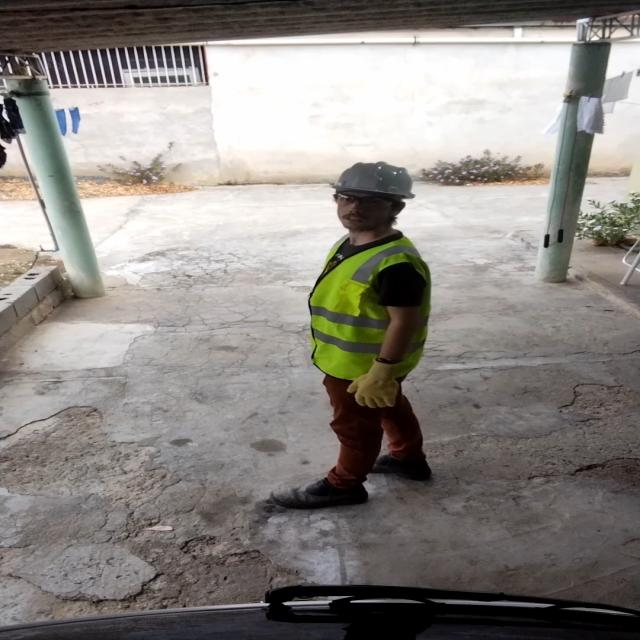glove: (347, 358, 413, 408)
helmet: (313, 160, 425, 214)
pants: (311, 371, 427, 474)
vest: (308, 229, 436, 378)
